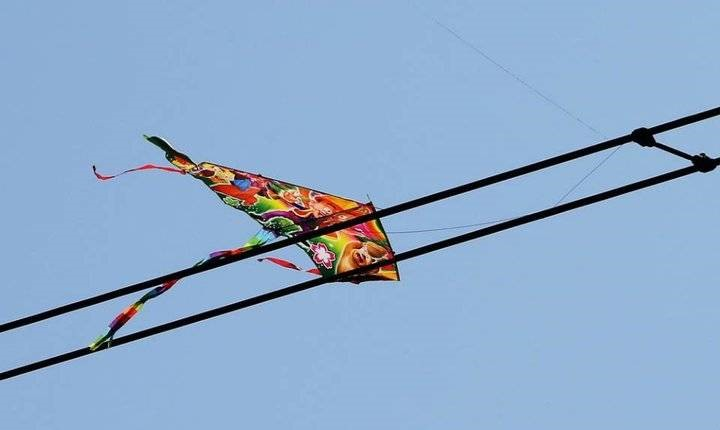wire foreign body: (141, 126, 416, 304)
